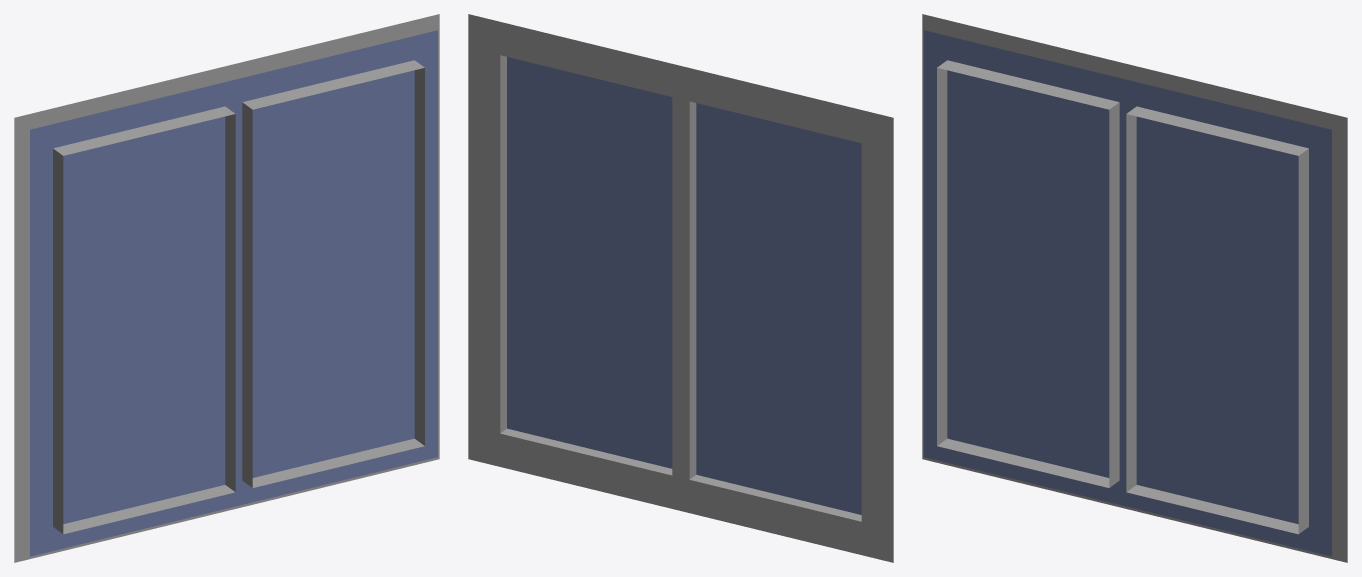
Rendered from Window-Basic.fbx.
3 renders of one model, left to right at view 1: azimuth 30°, elevation 25°; view 2: azimuth 150°, elevation 25°; view 3: azimuth 330°, elevation 25°, orthographic.
Visible parts, largest first — view 1: Window; view 2: Window; view 3: Window.
Part boxes in pixels (<box>): Window: <box>14,14,439,562</box>; Window: <box>468,14,893,562</box>; Window: <box>922,14,1347,562</box>.
Size of the model in its own units: 1 by 1 by 0.07.
